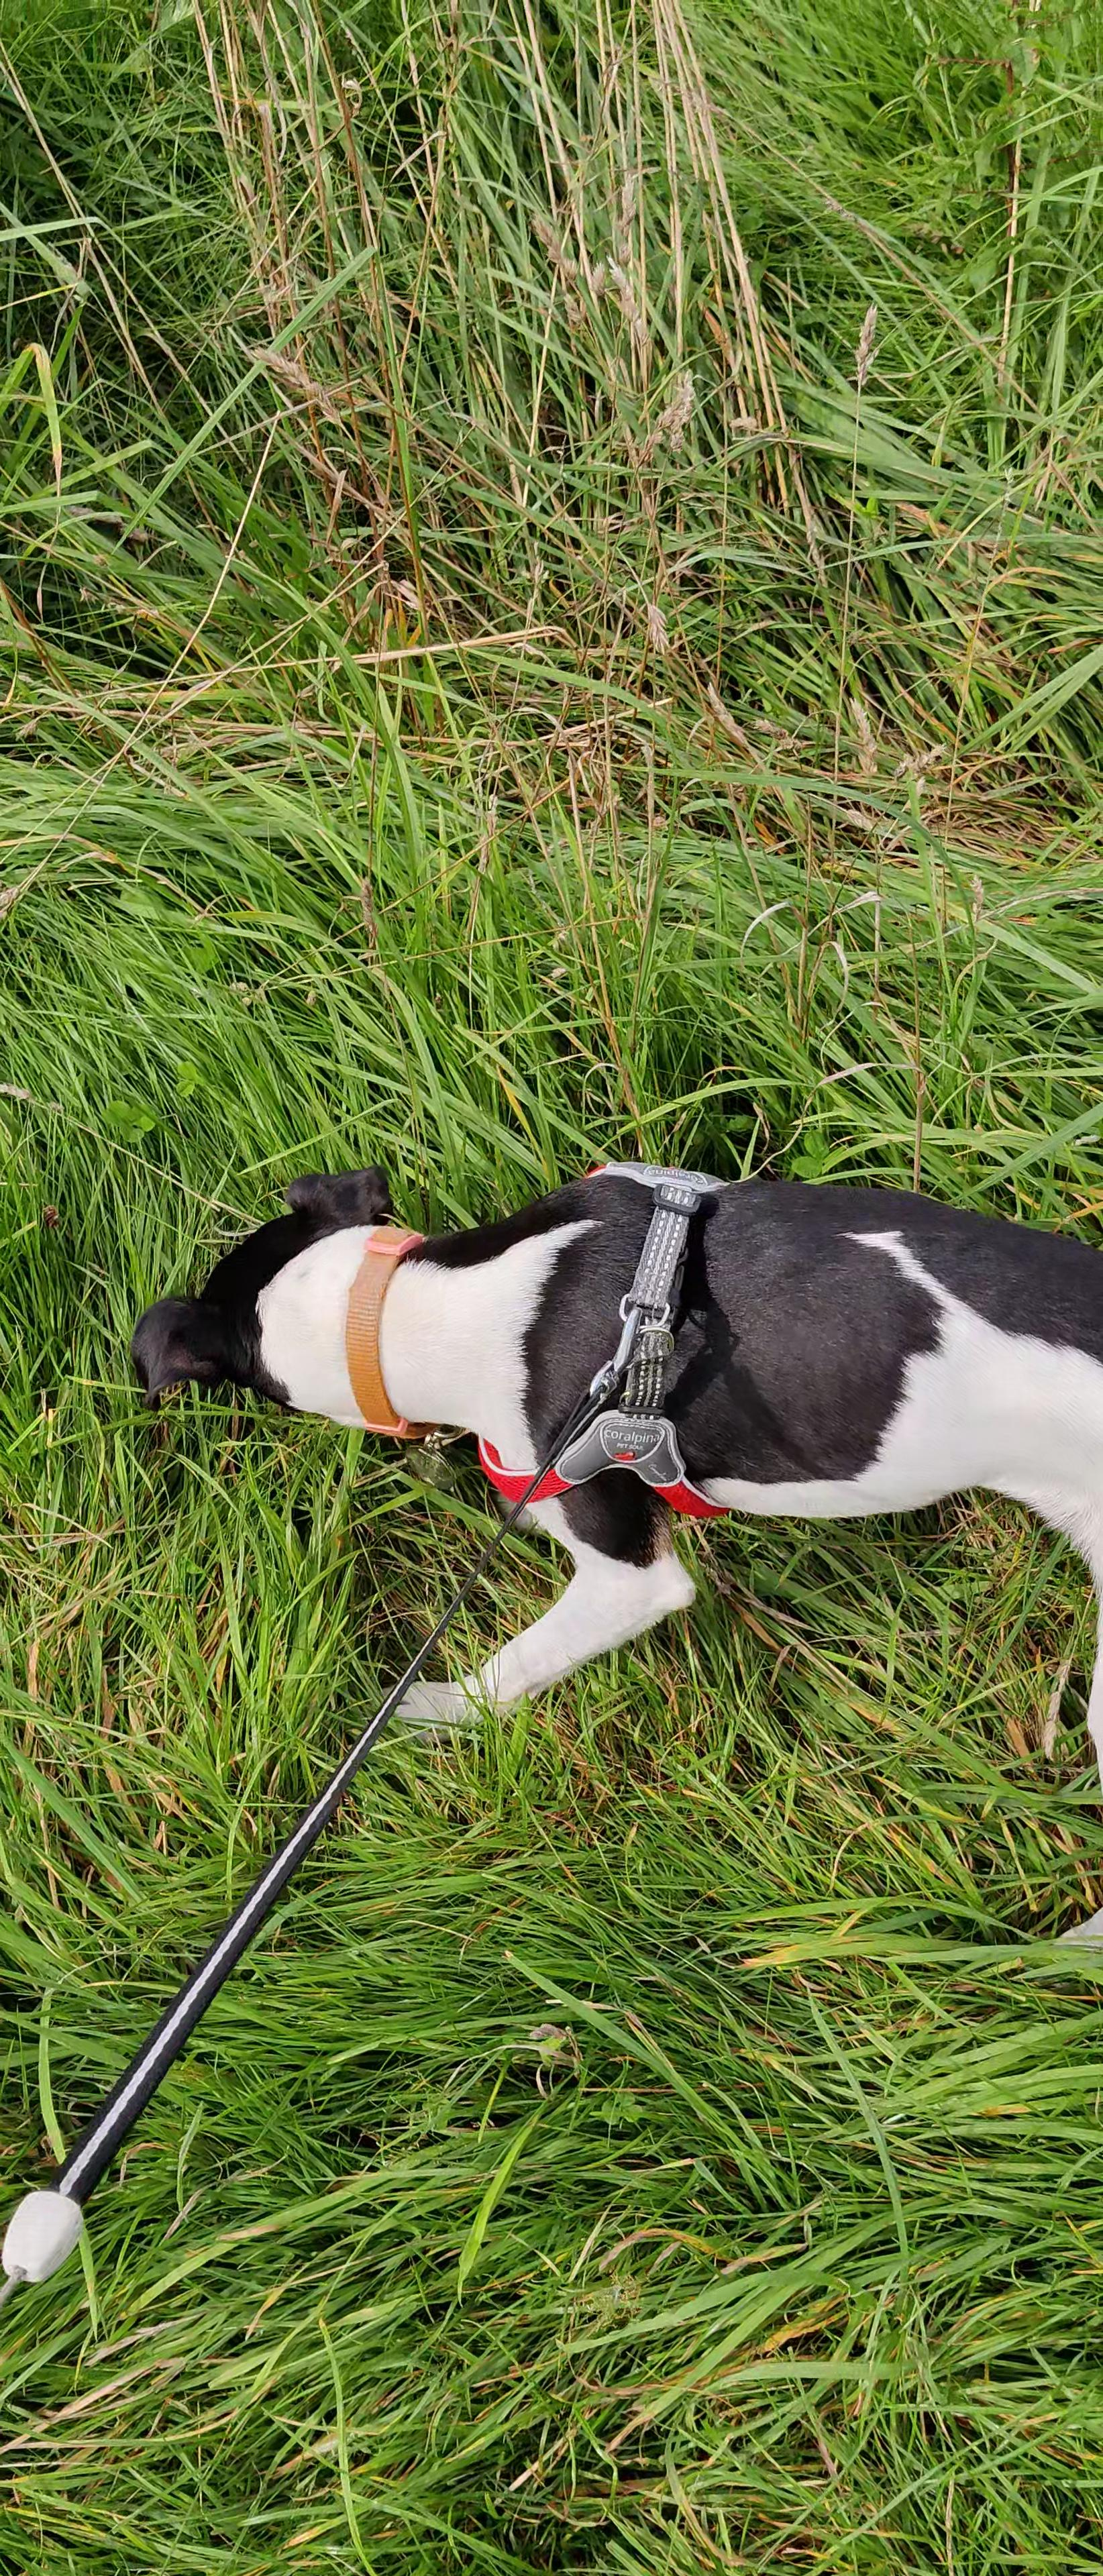Dog: (125, 1155, 1103, 1957)
